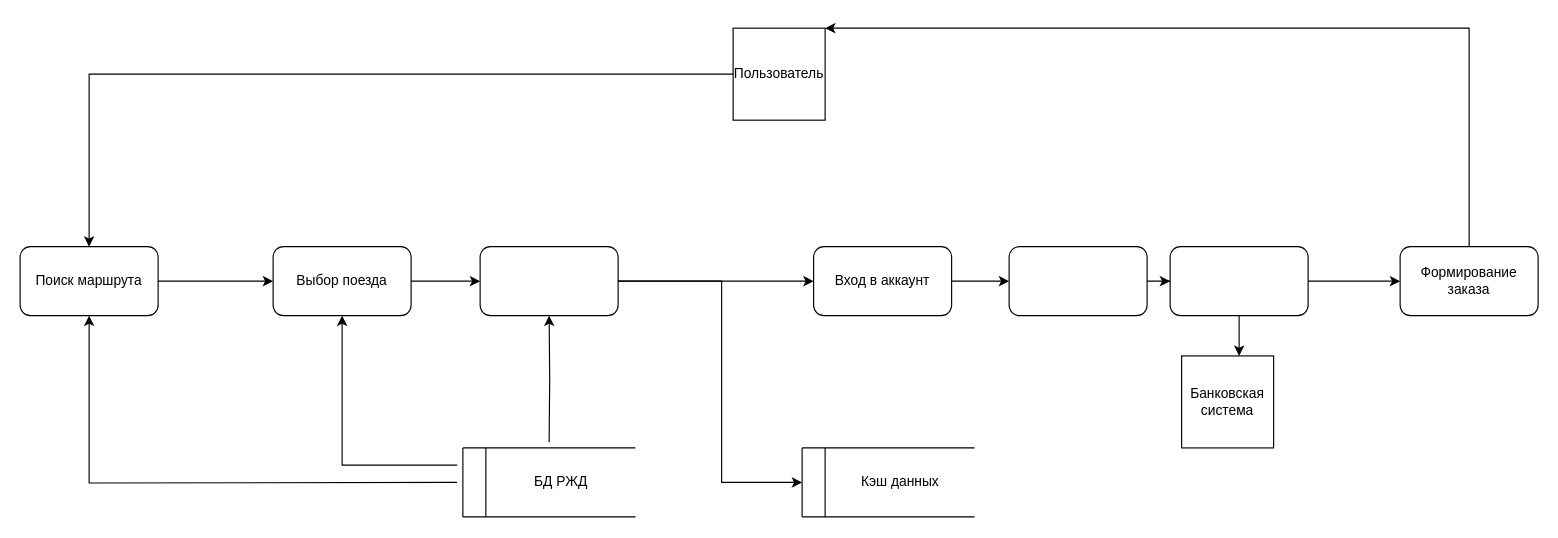
The diagram is 1558 pixels wide and 538 high, and some of its shapes have lost their labels. The shapes that lost their labels are listed below. From the top down, each one's centre as x and y in pixels, then its label:
pixel 548 281: Выбор места
pixel 1077 281: Заполнение данных о пассажирах
pixel 1238 281: Оплата
